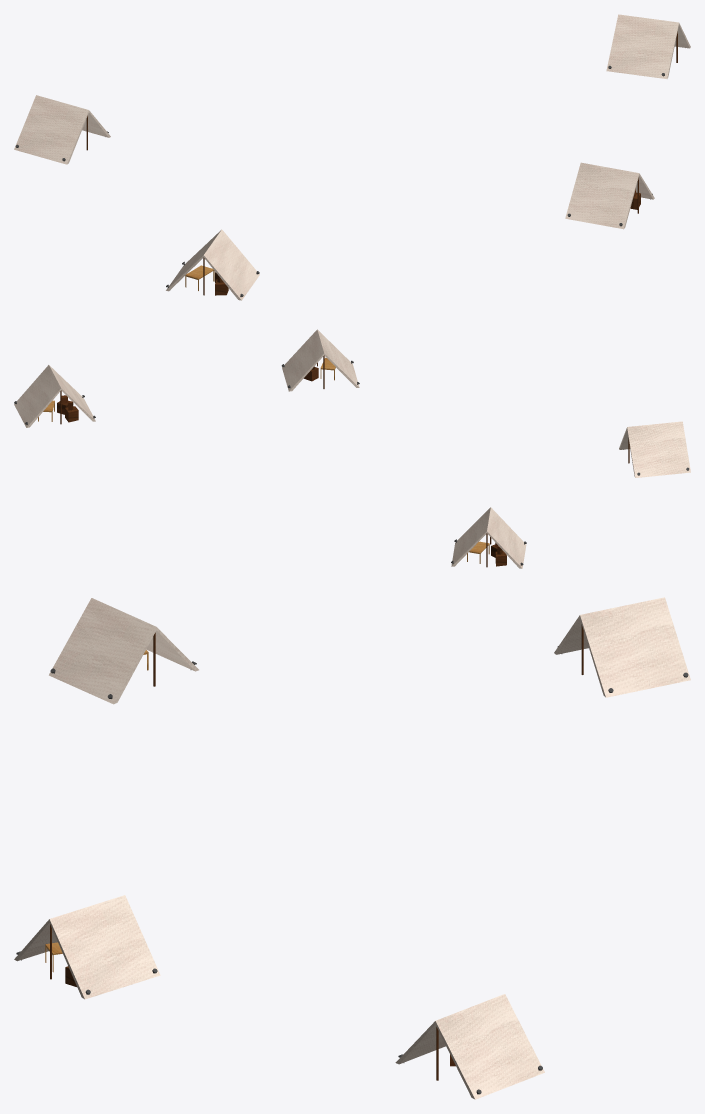
Rendered from Presente Carpas.glb.
The picture shows the model from 3 angles, top to bottom: view 1: azimuth 30°, elevation 25°; view 2: azimuth 150°, elevation 25°; view 3: azimuth 270°, elevation 25°; orthographic projection. The views are drawn at different scales.
Visible parts, largest first — view 1: Carpas; view 2: Carpas; view 3: Carpas.
Part boxes in pixels (bbox=[...]): Carpas: bbox=[14, 14, 690, 300]; Carpas: bbox=[14, 329, 690, 568]; Carpas: bbox=[14, 597, 690, 1099].
Bounding box in the file's own units: 88.35 × 8.56 × 54.46.
Materials: 1 (1 with a texture image).
